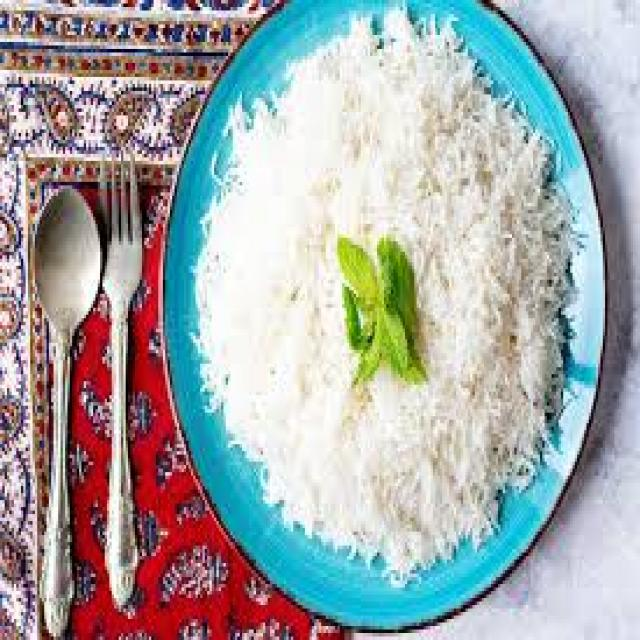White Rice: (160, 13, 595, 606)
